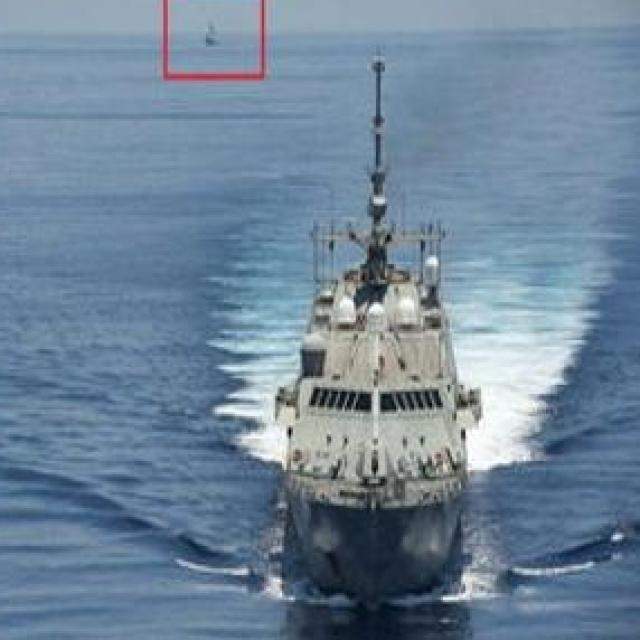navalvessels: (266, 84, 486, 589)
